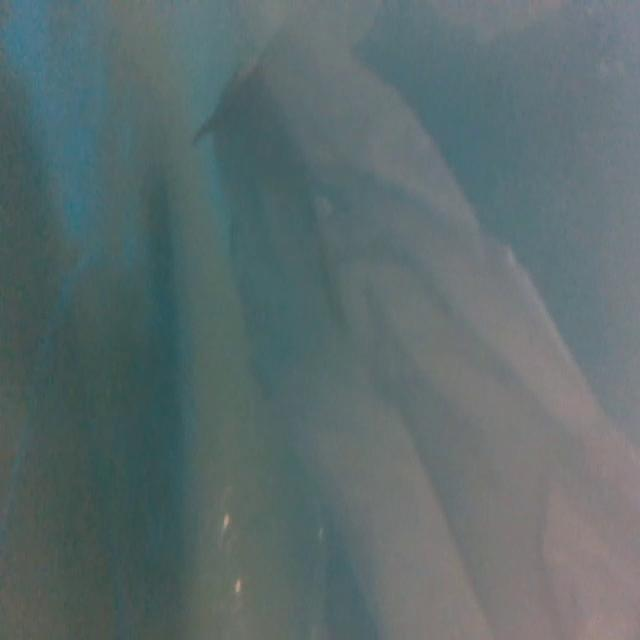plastic bags: (199, 13, 640, 640)
